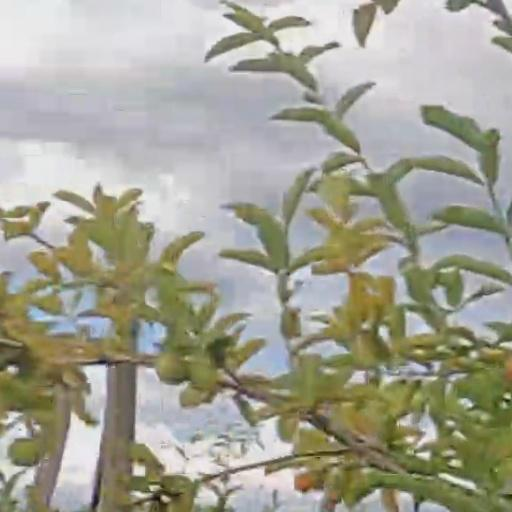acerola: (8, 437, 41, 464), (155, 352, 184, 382)
